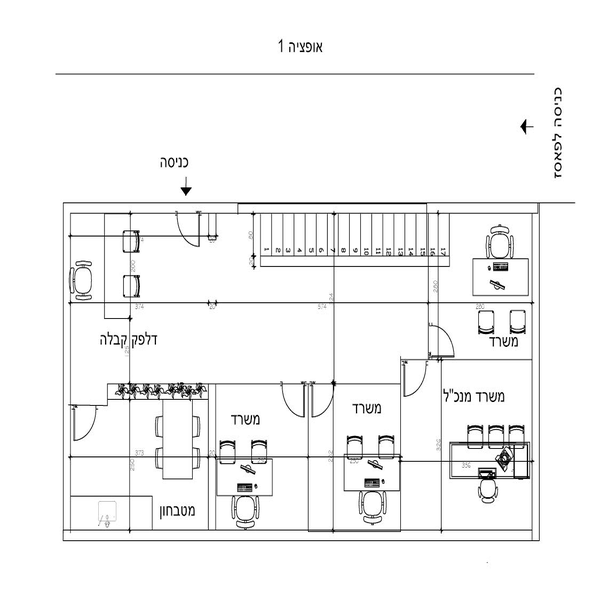door: (71, 406, 107, 449), (425, 319, 461, 360), (174, 212, 206, 254), (398, 358, 430, 399), (307, 382, 337, 424), (277, 384, 308, 423)
room: (62, 202, 539, 543)
